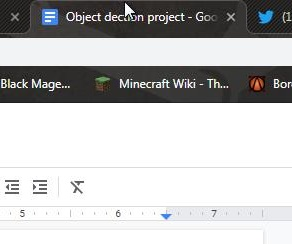cursor: (123, 1, 137, 21)
